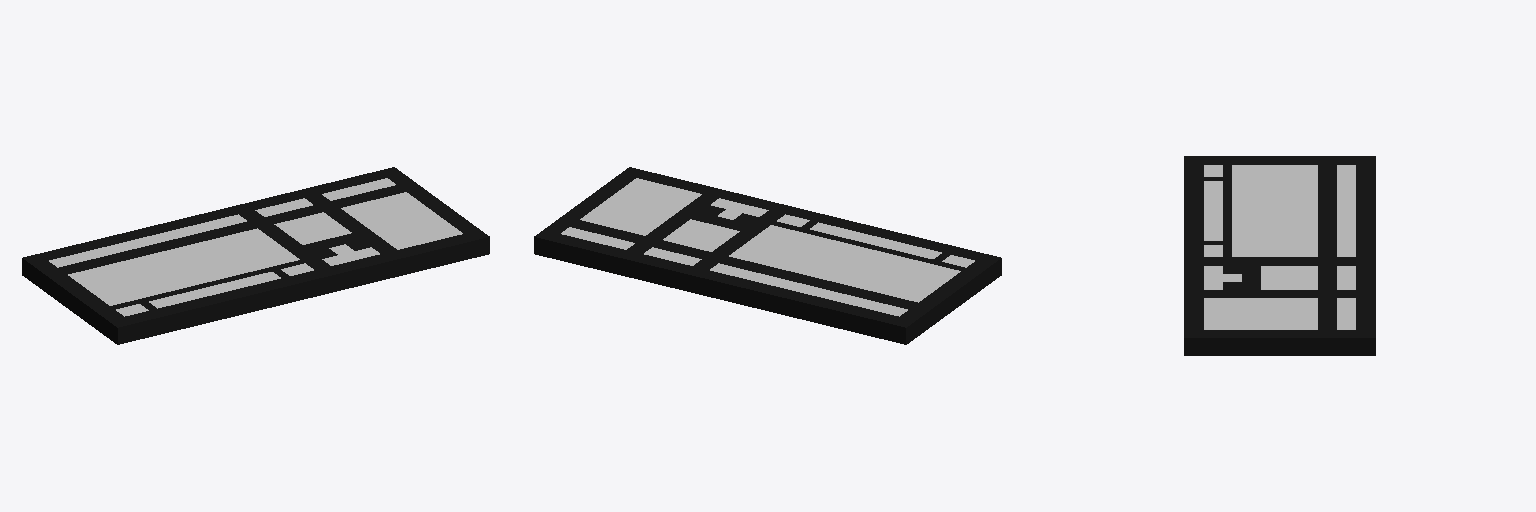
Rendered from Keyboard.obj.
3 views of the same model, side by side, from view 1: azimuth 30°, elevation 25°; view 2: azimuth 150°, elevation 25°; view 3: azimuth 270°, elevation 25° (orthographic).
Visible parts, largest first — view 1: object_8, object_5, object_9, object_11, object_2, object_1, object_3, object_7; view 2: object_8, object_5, object_9, object_11, object_2, object_1, object_7, object_3; view 3: object_8, object_5, object_9, object_11, object_2, object_1, object_3, object_7.
Part boxes in pixels (bbox=[...]): object_8: bbox=[22, 167, 489, 344]; object_5: bbox=[68, 228, 299, 305]; object_9: bbox=[341, 192, 462, 249]; object_11: bbox=[49, 214, 246, 267]; object_2: bbox=[274, 212, 351, 244]; object_1: bbox=[149, 272, 280, 308]; object_3: bbox=[322, 178, 395, 200]; object_7: bbox=[322, 244, 379, 265]; object_8: bbox=[534, 167, 1001, 344]; object_5: bbox=[729, 225, 960, 302]; object_9: bbox=[580, 178, 701, 235]; object_11: bbox=[710, 263, 907, 316]; object_2: bbox=[663, 219, 739, 251]; object_1: bbox=[810, 222, 941, 258]; object_7: bbox=[711, 198, 768, 219]; object_3: bbox=[561, 227, 634, 249]; object_8: bbox=[1184, 156, 1375, 355]; object_5: bbox=[1232, 165, 1317, 256]; object_9: bbox=[1204, 298, 1317, 329]; object_11: bbox=[1337, 165, 1355, 256]; object_2: bbox=[1261, 266, 1317, 289]; object_1: bbox=[1204, 181, 1222, 240]; object_3: bbox=[1337, 298, 1355, 329]; object_7: bbox=[1204, 266, 1241, 289].
Size of the model in its own units: 45 by 2 by 20.